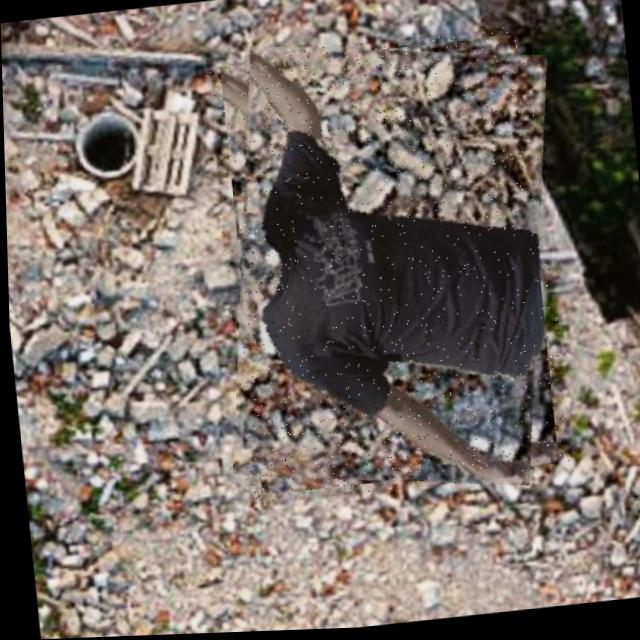Person in Rubble: (204, 26, 570, 507)
